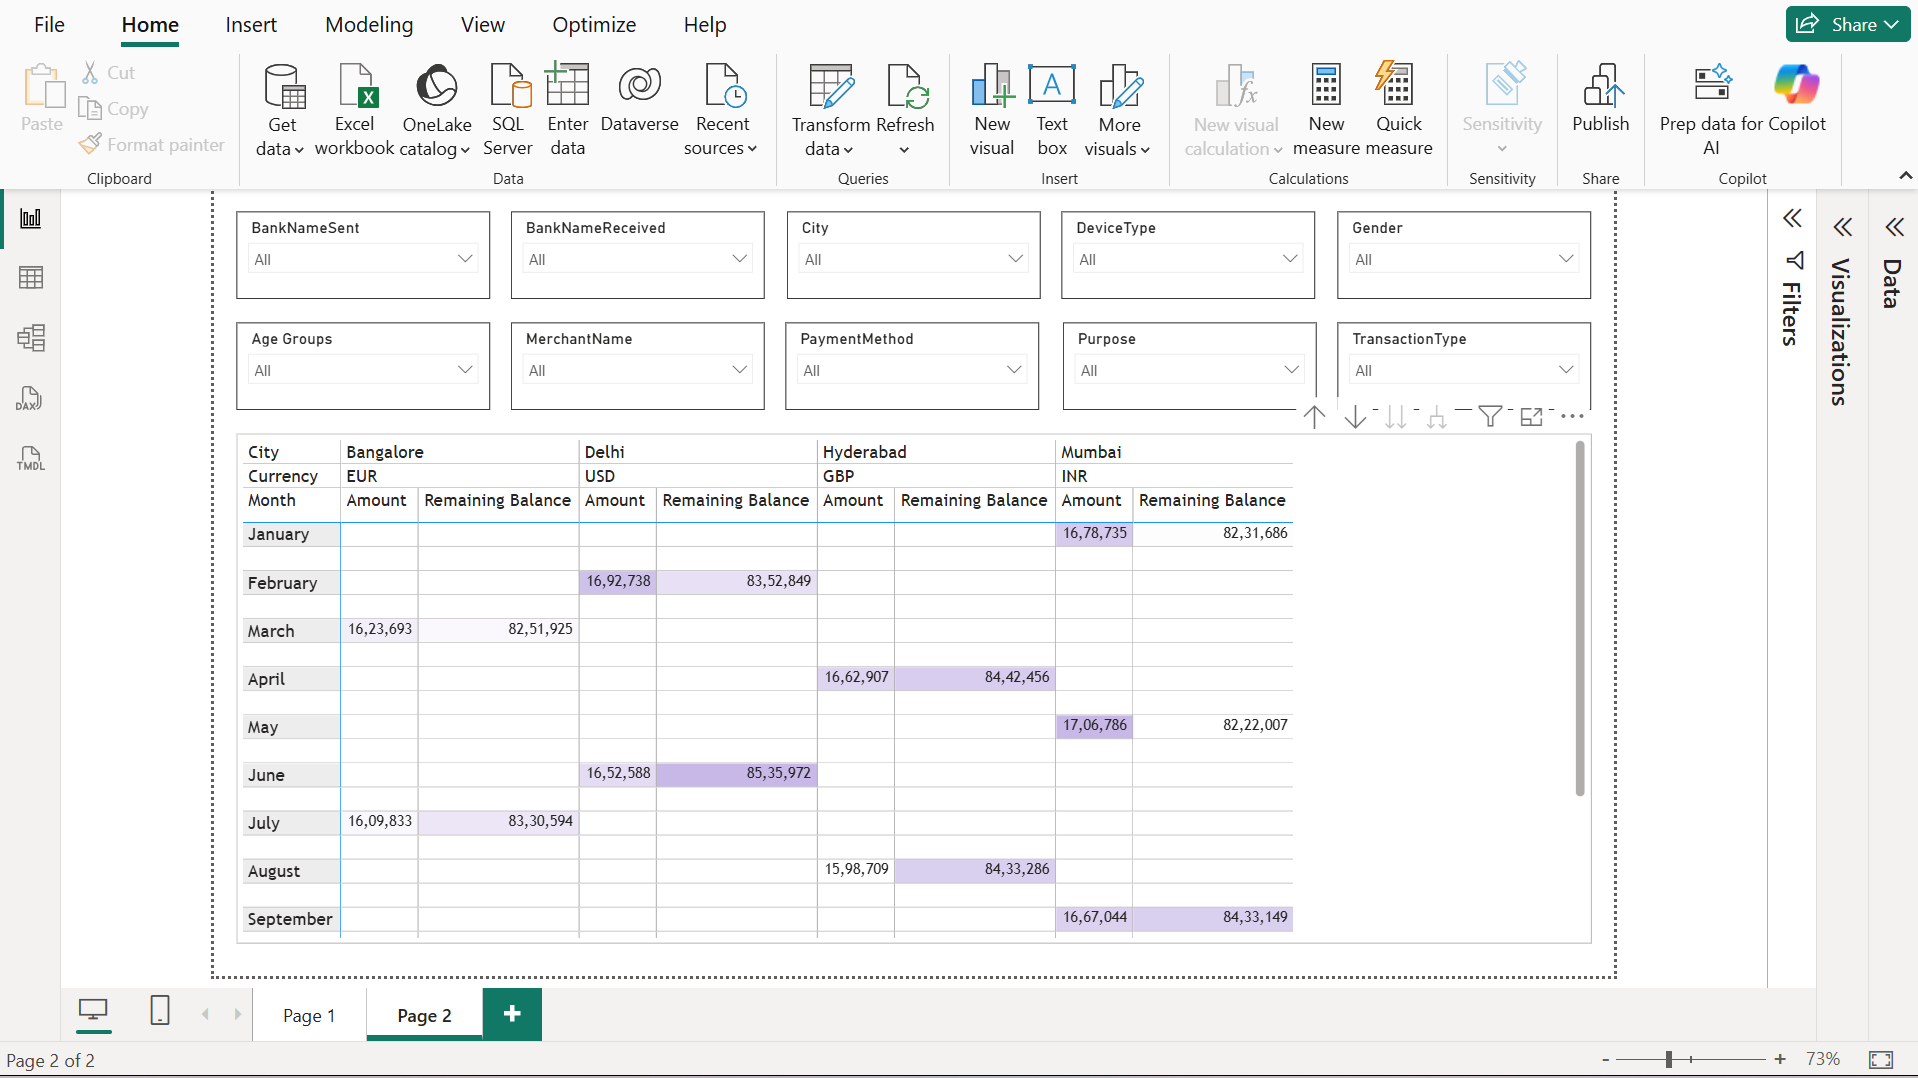

This screenshot's page, from the dashboard's own definition file:
{"tool":"powerbi","page":{"name":"Page 2","canvas":[1280,720],"ordinal":1},"visuals":[{"type":"slicer","fields":{"Values":["UPI Transaction.BankNameSent"]},"box":[20,20,232,80],"z":0},{"type":"slicer","fields":{"Values":["UPI Transaction.BankNameReceived"]},"box":[272,20,232,80],"z":1000},{"type":"slicer","fields":{"Values":["UPI Transaction.City"]},"box":[524,20,232,80],"z":2000},{"type":"slicer","fields":{"Values":["UPI Transaction.DeviceType"]},"box":[776,20,232,80],"z":3000},{"type":"slicer","fields":{"Values":["UPI Transaction.Gender"]},"box":[1028,20,232,80],"z":4000},{"type":"slicer","fields":{"Values":["UPI Transaction.Age Groups"]},"box":[20,121.7,232,80],"z":5000},{"type":"slicer","fields":{"Values":["UPI Transaction.MerchantName"]},"box":[271.7,121.7,232,80],"z":6000},{"type":"slicer","fields":{"Values":["UPI Transaction.PaymentMethod"]},"box":[523.3,121.7,232,80],"z":7000},{"type":"slicer","fields":{"Values":["UPI Transaction.Purpose"]},"box":[776.7,121.7,232,80],"z":8000},{"type":"slicer","fields":{"Values":["UPI Transaction.TransactionType"]},"box":[1028.3,121.7,232,80],"z":9000},{"type":"pivotTable","fields":{"Values":["Sum(UPI Transaction.Amount)","Sum(UPI Transaction.RemainingBalance)"],"Rows":["UPI Transaction.TransactionDate.Variation.Date Hierarchy.Month"],"Columns":["UPI Transaction.City","UPI Transaction.Currency"]},"box":[20,223.3,1240,466.7],"z":9001}]}

Visuals, with their boxes on the page's 1280x720 design canvas (x1, y1, x2, y2). These are canvas units, not pixel positions in the 1918x1078 screenshot, which may show the page scaled, cropped or inside an application window:
slicer - UPI Transaction.BankNameSent: box=[20, 20, 252, 100]
slicer - UPI Transaction.BankNameReceived: box=[272, 20, 504, 100]
slicer - UPI Transaction.City: box=[524, 20, 756, 100]
slicer - UPI Transaction.DeviceType: box=[776, 20, 1008, 100]
slicer - UPI Transaction.Gender: box=[1028, 20, 1260, 100]
slicer - UPI Transaction.Age Groups: box=[20, 122, 252, 202]
slicer - UPI Transaction.MerchantName: box=[272, 122, 504, 202]
slicer - UPI Transaction.PaymentMethod: box=[523, 122, 755, 202]
slicer - UPI Transaction.Purpose: box=[777, 122, 1009, 202]
slicer - UPI Transaction.TransactionType: box=[1028, 122, 1260, 202]
pivotTable - Sum(UPI Transaction.Amount) x Sum(UPI Transaction.RemainingBalance): box=[20, 223, 1260, 690]
